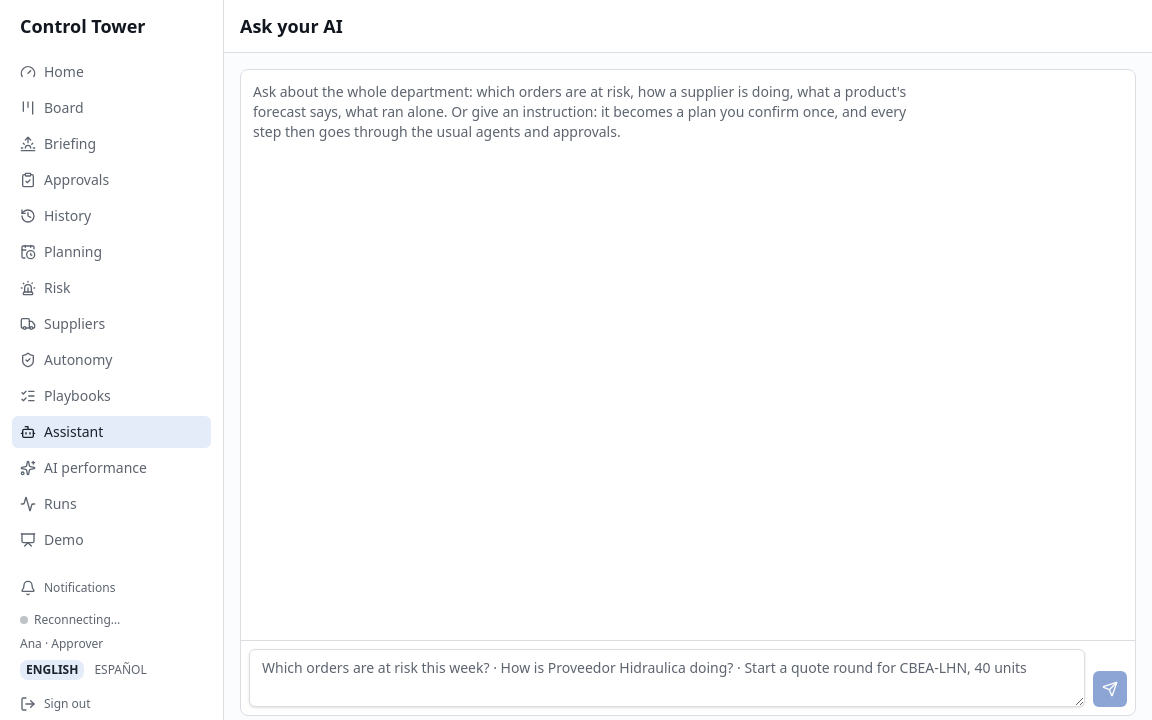
Test case: department assistant › asks, shows the sources as links and runs the plan only when confirmed
This screenshot has width=1152, height=720.
Check: the heading "Ask your AI" is shown, box x1=240 y1=12 x2=343 y2=40
Type "Start a quote round for CBEA-LHN, 40 units" into the text box named "Message to your AI" at (667, 678), box x1=249 y1=649 x2=1085 y2=707
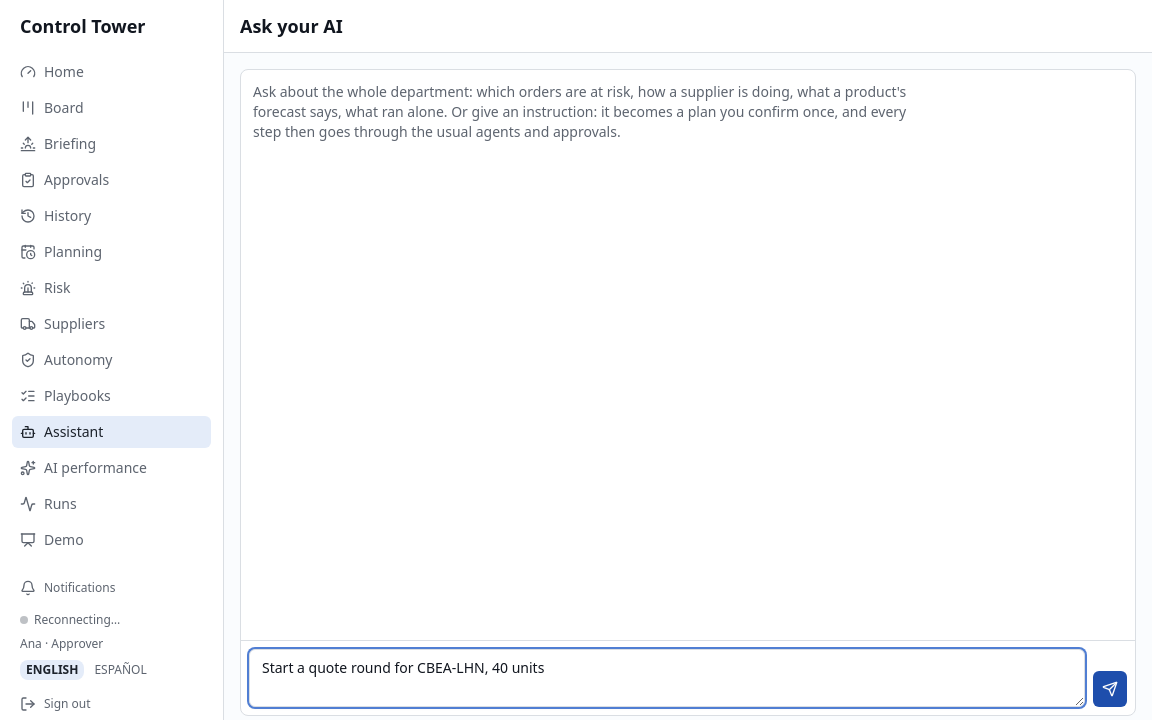
Click the button named "Send" at (1110, 689), box x1=1093 y1=671 x2=1127 y2=707
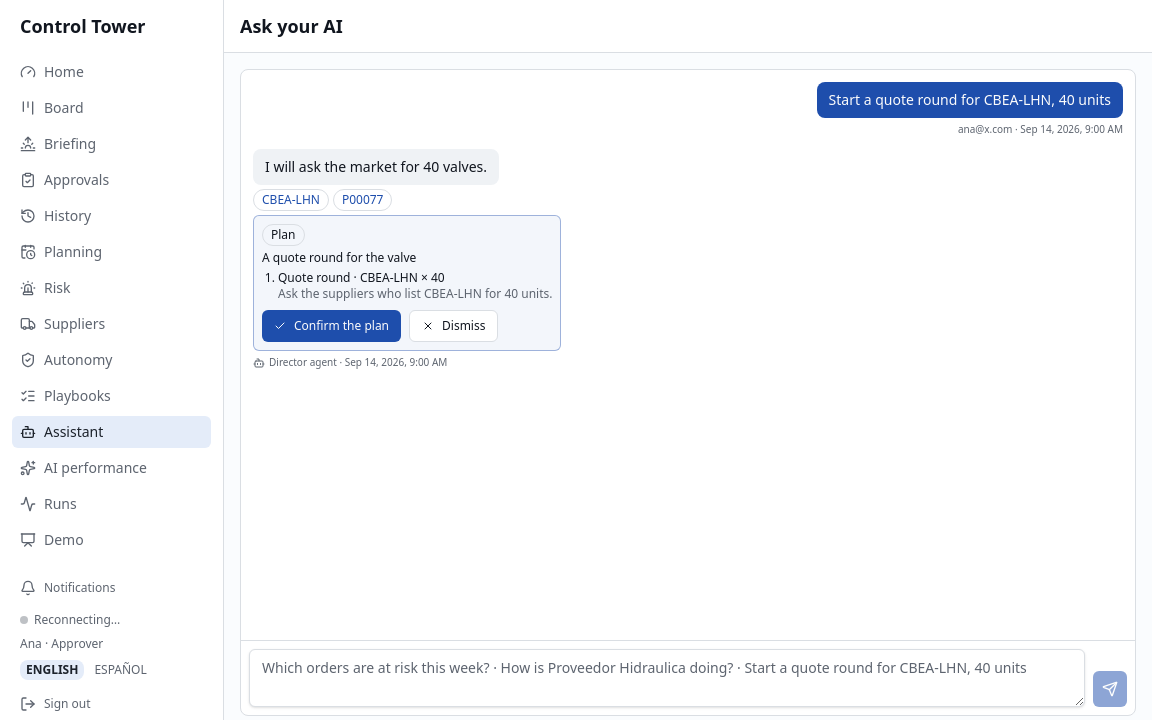
Check: the text "I will ask the market for 40 valves." is shown, box x1=253 y1=149 x2=499 y2=185
Check: the element with test id "proposed-plan" shows "A quote round for the valve", box x1=262 y1=249 x2=416 y2=266
Check: the element with test id "proposed-plan" shows "Quote round · CBEA-LHN × 40", box x1=253 y1=215 x2=562 y2=351
Click the button "Confirm the plan" at (332, 326), box x1=262 y1=310 x2=401 y2=342
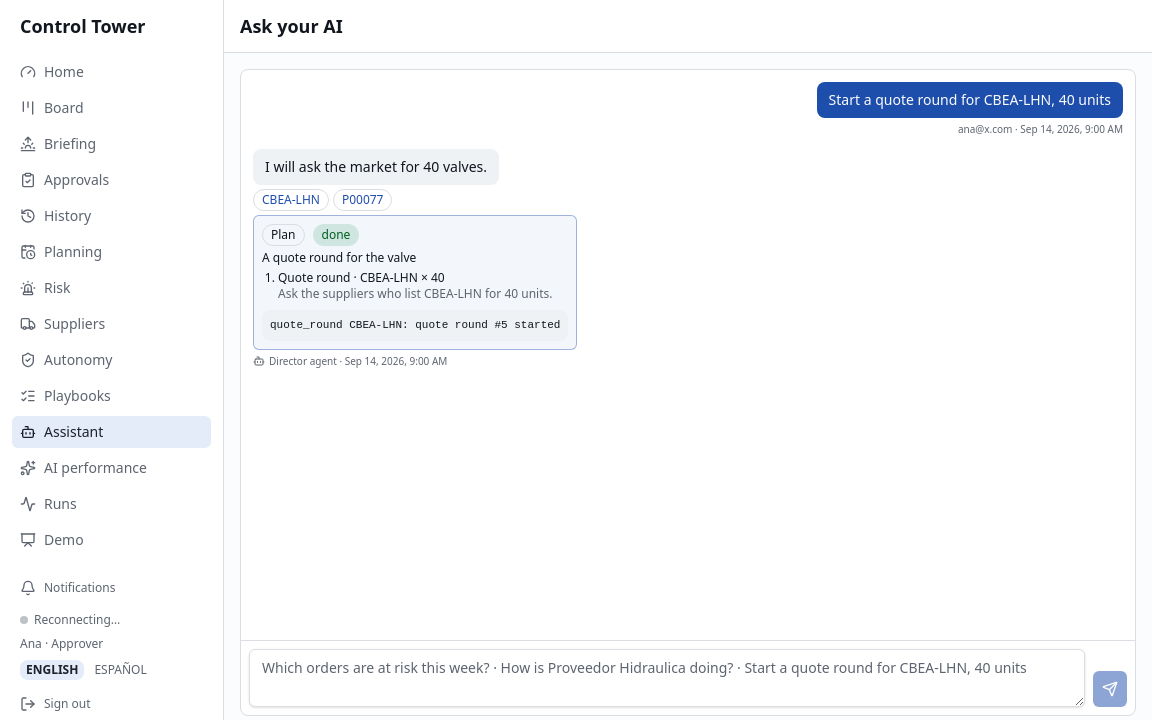
Check: the text "quote_round CBEA-LHN: quote round #5 started" is shown, box x1=262 y1=310 x2=568 y2=341
Check: the text "done" is shown, box x1=312 y1=224 x2=359 y2=246
Check: the button "Confirm the plan" is gone
